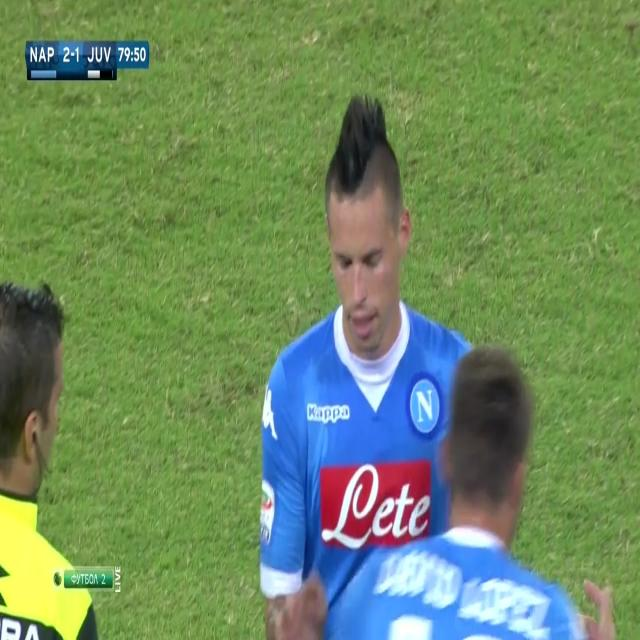Player: (255, 92, 466, 638), (320, 344, 622, 640)
Referee: (0, 266, 107, 640)
